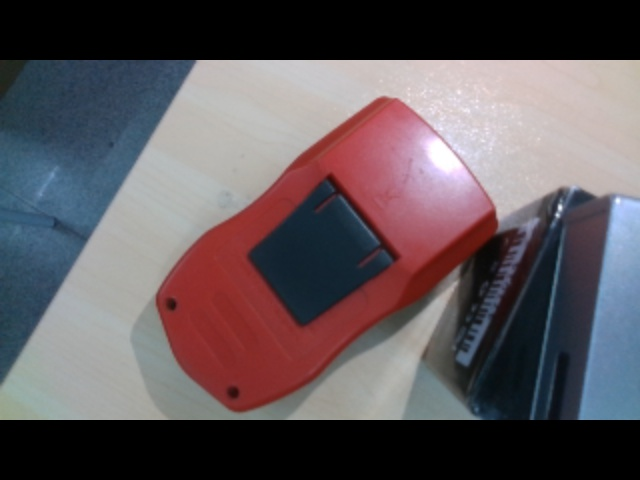Multimeter: (154, 97, 497, 412)
